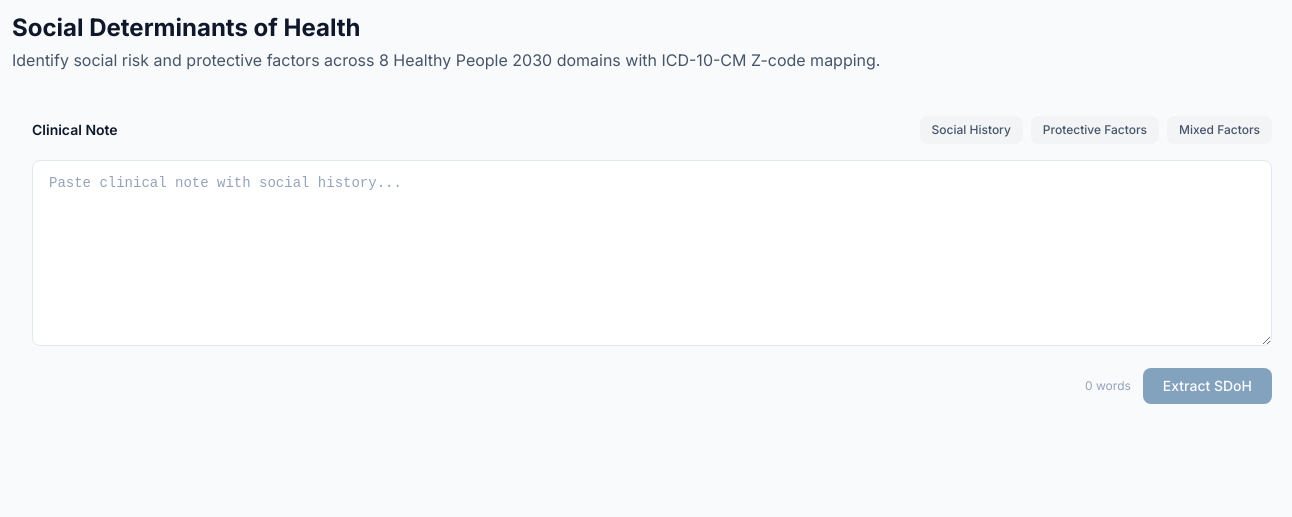
Test: SDoHExtractor — API integration › handles API errors
Click the button "Social History".
click(971, 130)  # box [920,116,1023,144]
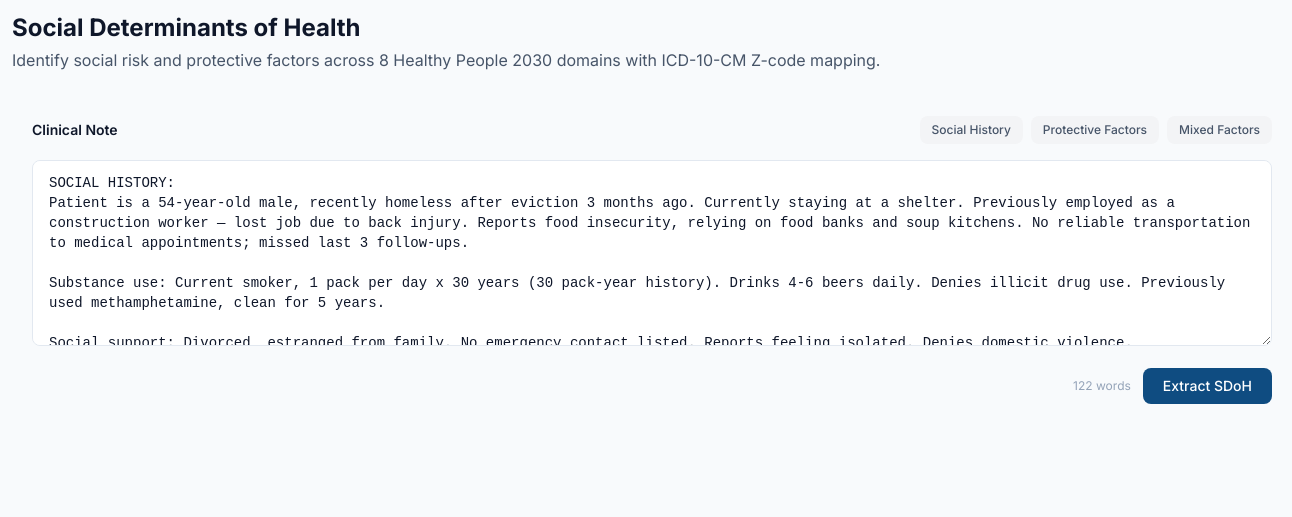
Click the button "Extract SDoH".
click(1207, 386)  # box [1143,368,1272,404]
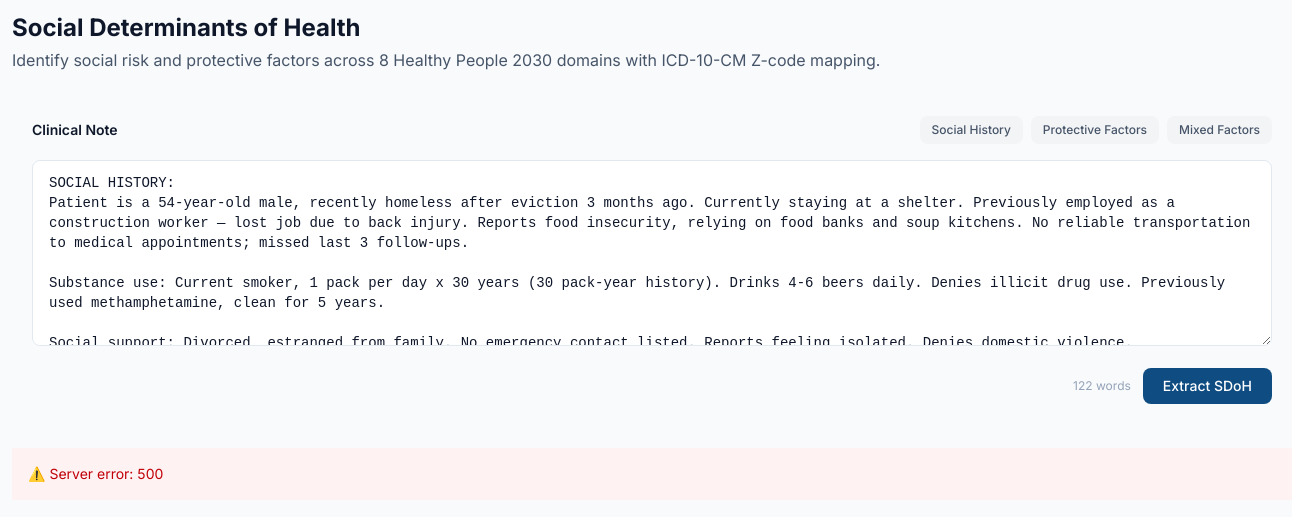
Now the text "⚠️ Server error: 500" is shown, box [12,448,1291,500]
